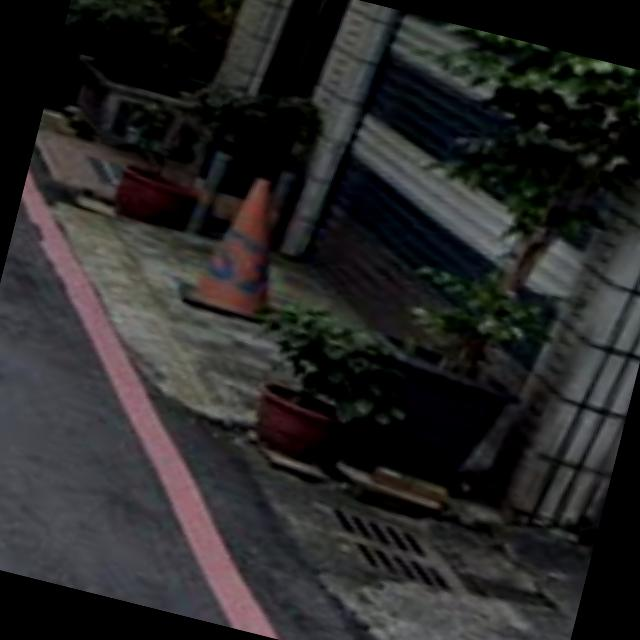cone: (166, 154, 312, 330)
